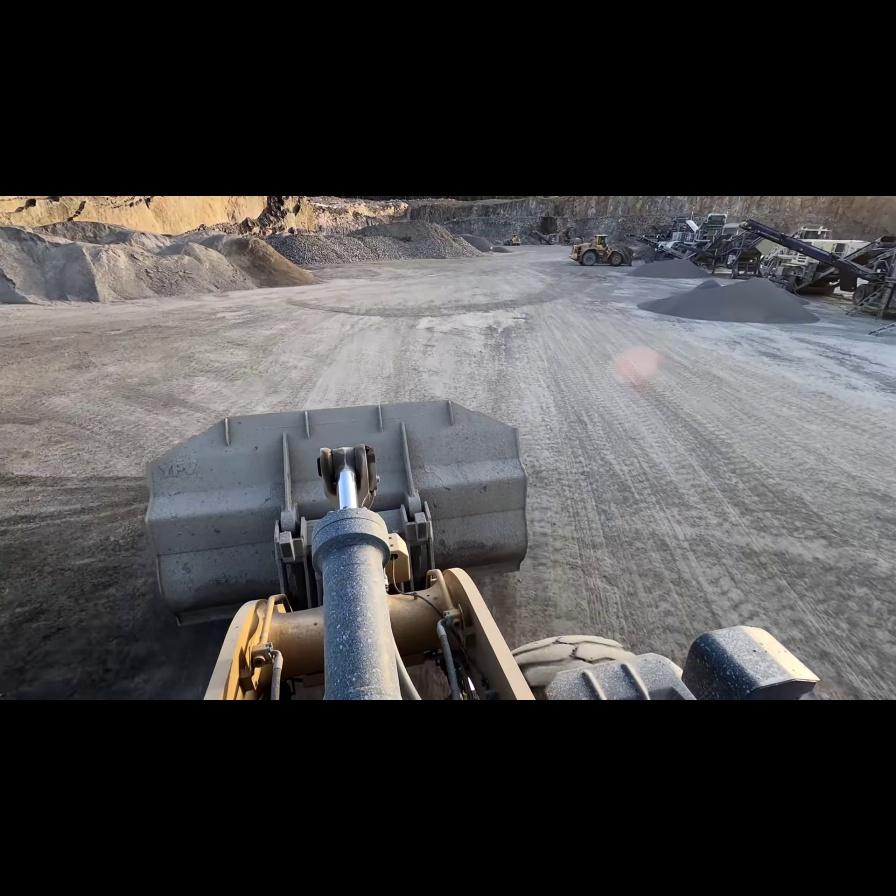anchor: (317, 444, 377, 511)
pile of gravel: (2, 216, 312, 305), (272, 221, 482, 267), (636, 277, 817, 324), (622, 258, 707, 279)
